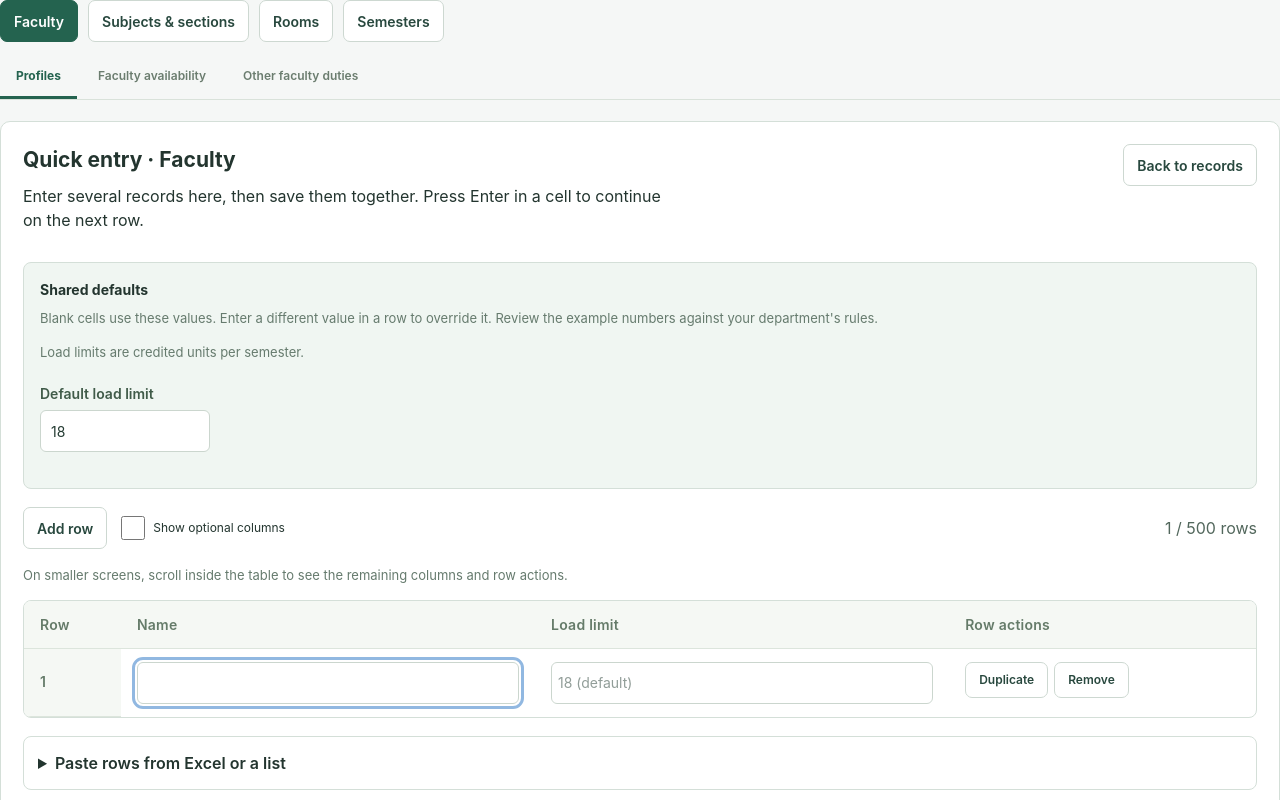
opens quick entry through its draft route while preserving individual forms
This screenshot has width=1280, height=800.
Check: the field named "Name row 1" is shown, box [137,662,519,704]
What coordinates should you click on to do the following:
click the button "Back to records"
I would click on:
 (1190, 165)
Its box is [1123,144,1257,186].
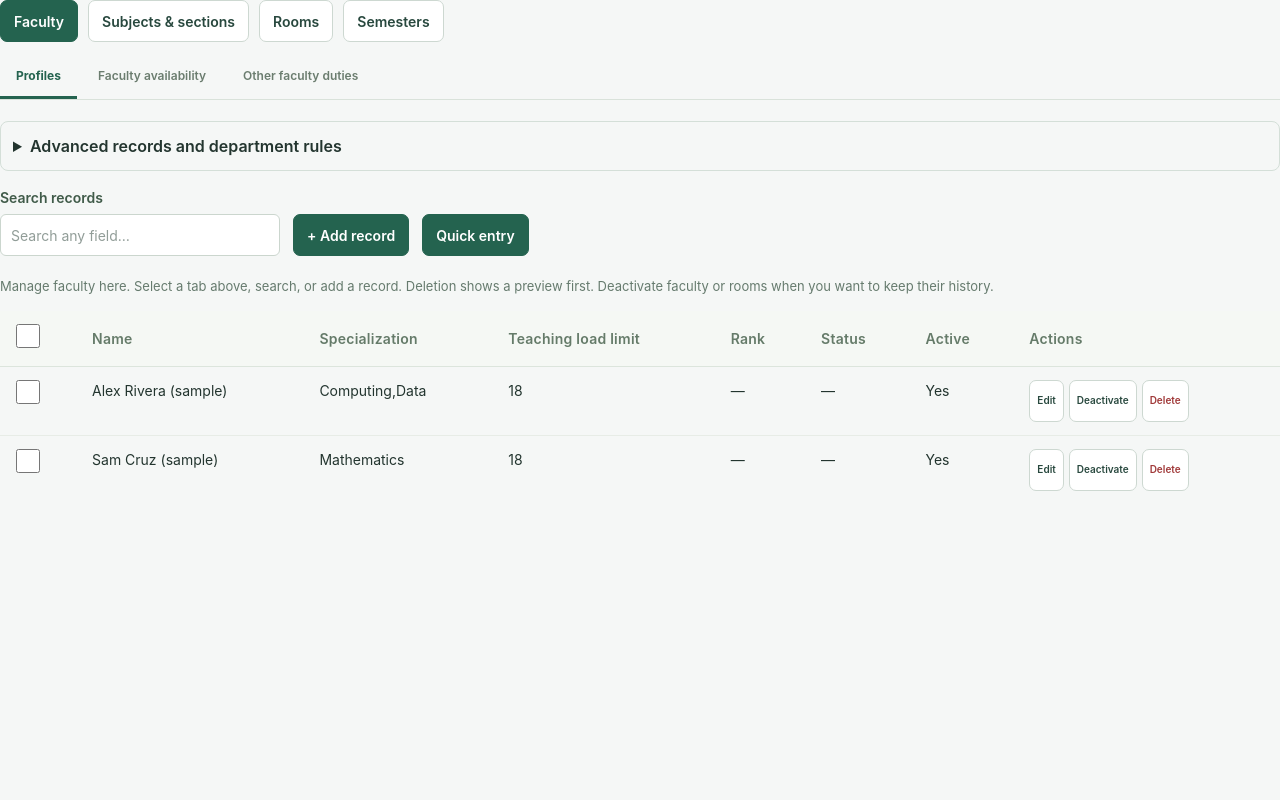
What coordinates should you click on to do the following:
click the button "+ Add record"
I would click on:
 (351, 235)
Its box is [293,214,409,256].
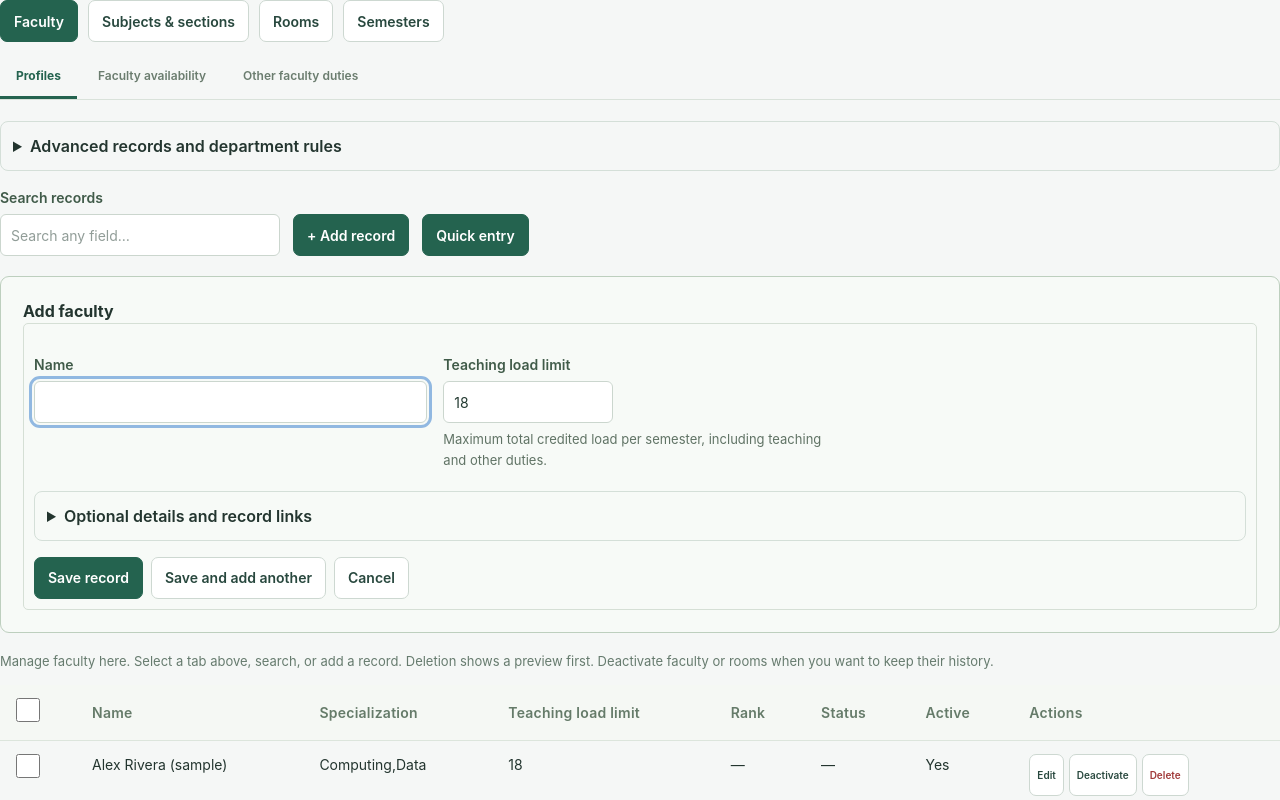
Check: the field labelled "Name" is shown, box [34,381,427,423]
